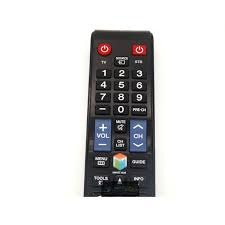remote control: (85, 24, 159, 204)
